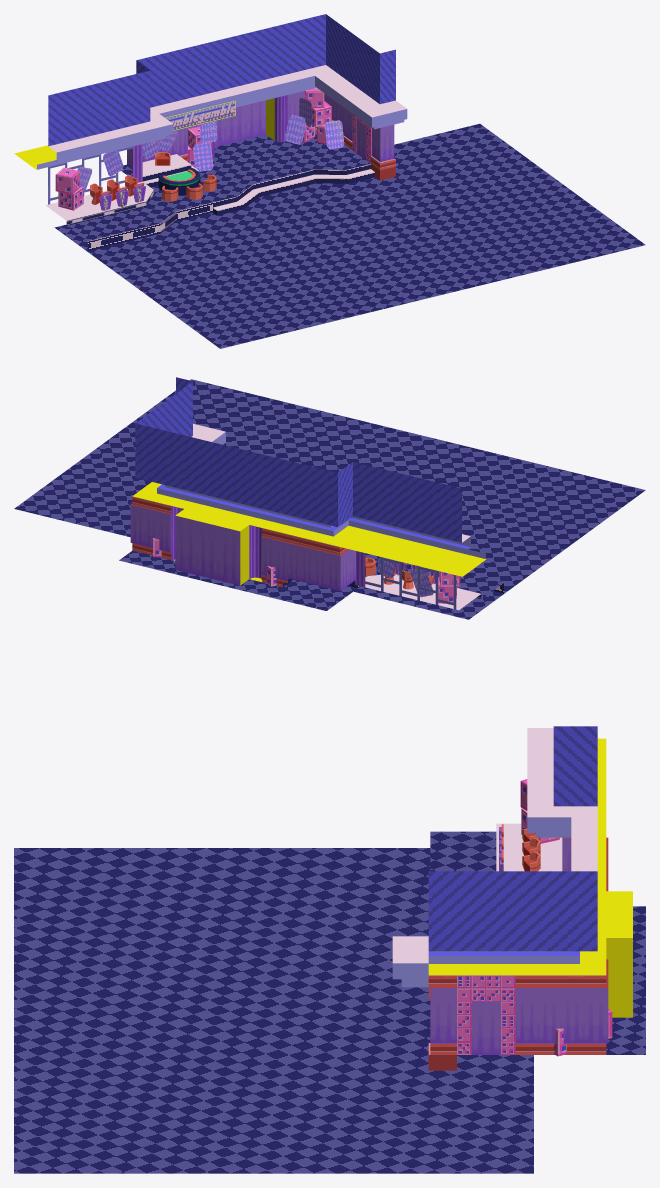
The model's file is rg_stage.fbx.
The picture shows the model from 3 angles, top to bottom: view 1: azimuth 30°, elevation 25°; view 2: azimuth 150°, elevation 25°; view 3: azimuth 270°, elevation 25°; orthographic projection. The views are drawn at different scales.
Parts seen in each view (by area): view 1: plane, plane_1, chair, table, group; view 2: plane; view 3: plane.
Boxes of the visible parts, x1,y1,x2,y2 form: plane: [14, 14, 645, 348]; plane_1: [164, 99, 236, 131]; chair: [155, 152, 216, 201]; table: [158, 167, 200, 194]; group: [98, 182, 145, 210]; plane: [14, 377, 645, 619]; plane: [14, 726, 645, 1173].
Size of the model in its own units: 2777 by 764 by 2189.
Materials: 23 (23 with a texture image).
